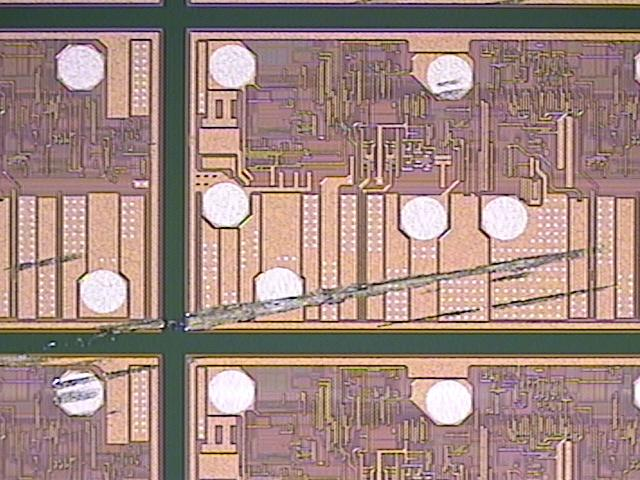SCRATCH: (42, 276, 627, 412), (1, 244, 609, 374), (1, 252, 100, 280)
